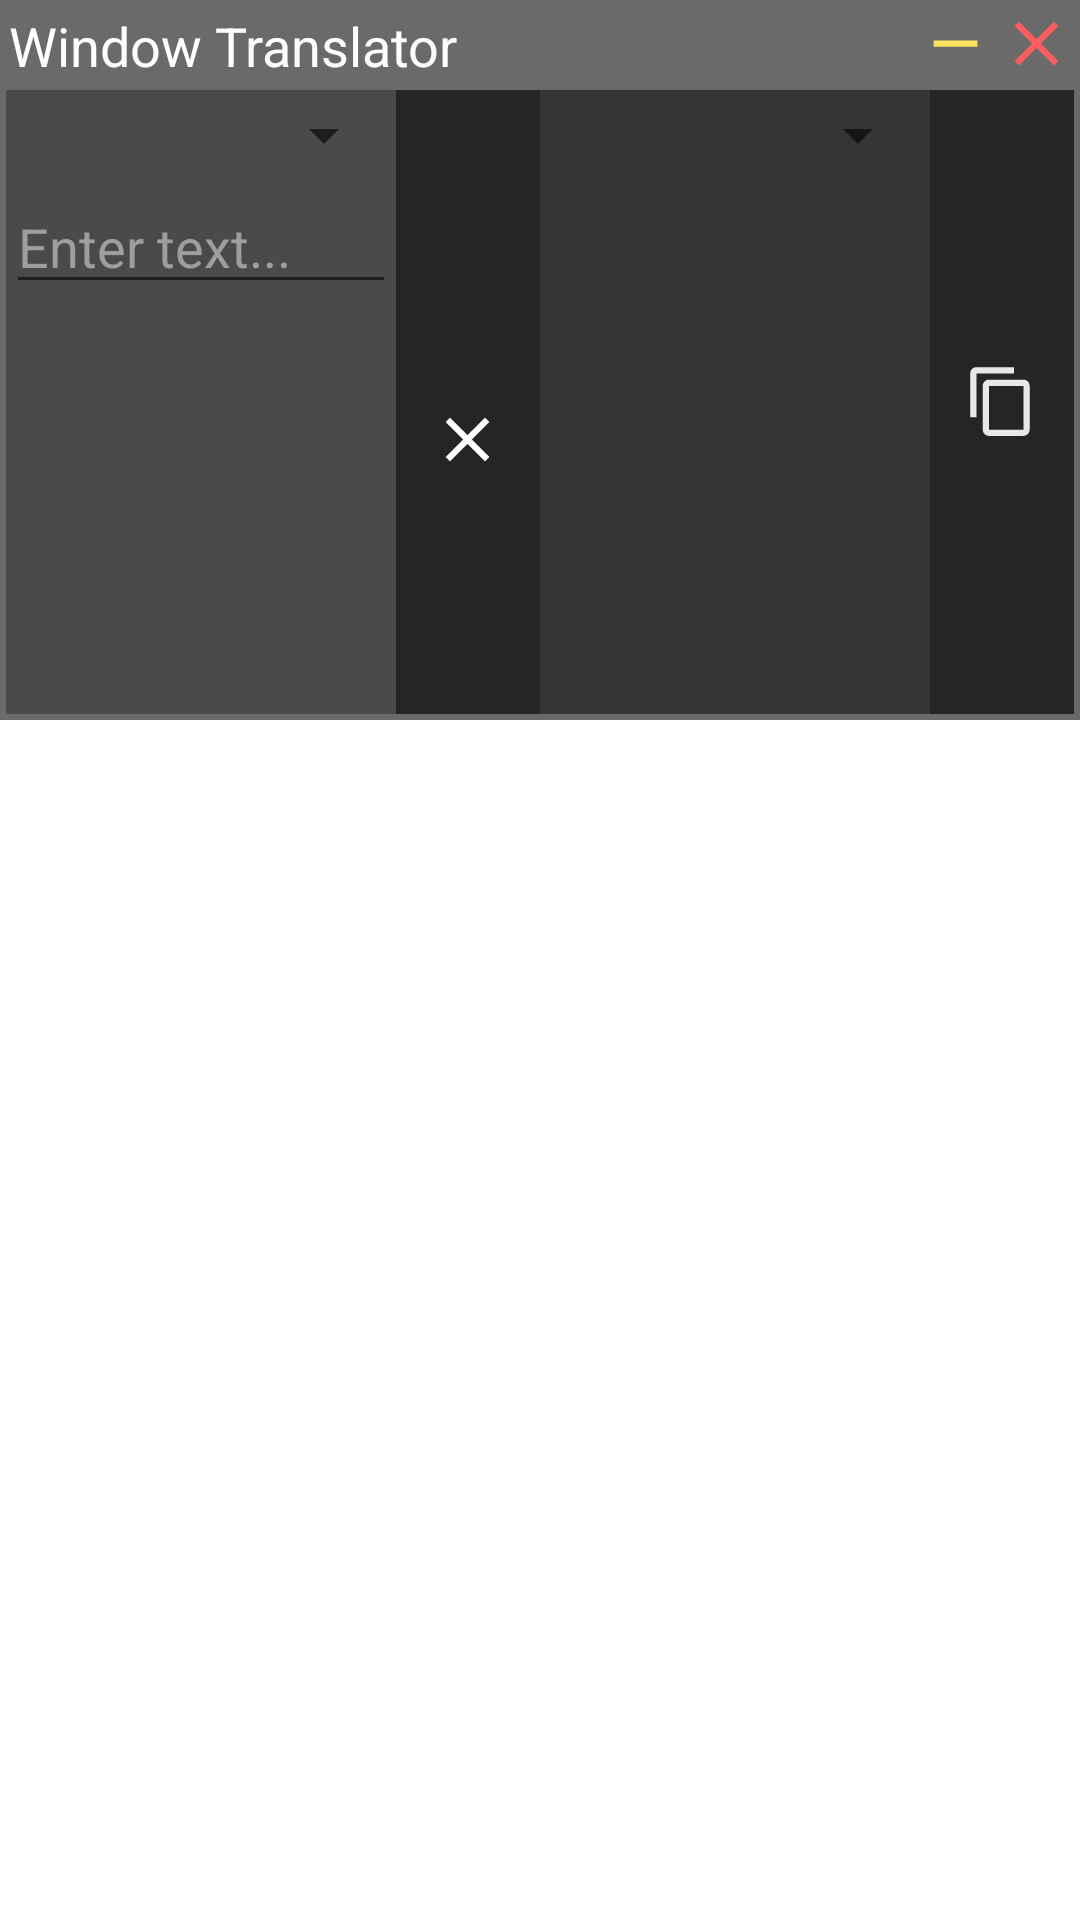

Locate icon controls on the screen. Image size 1080*1920, boxes as (x1, y1, x2, y2).
close window: (1015, 22, 1058, 65), (446, 418, 489, 461)
